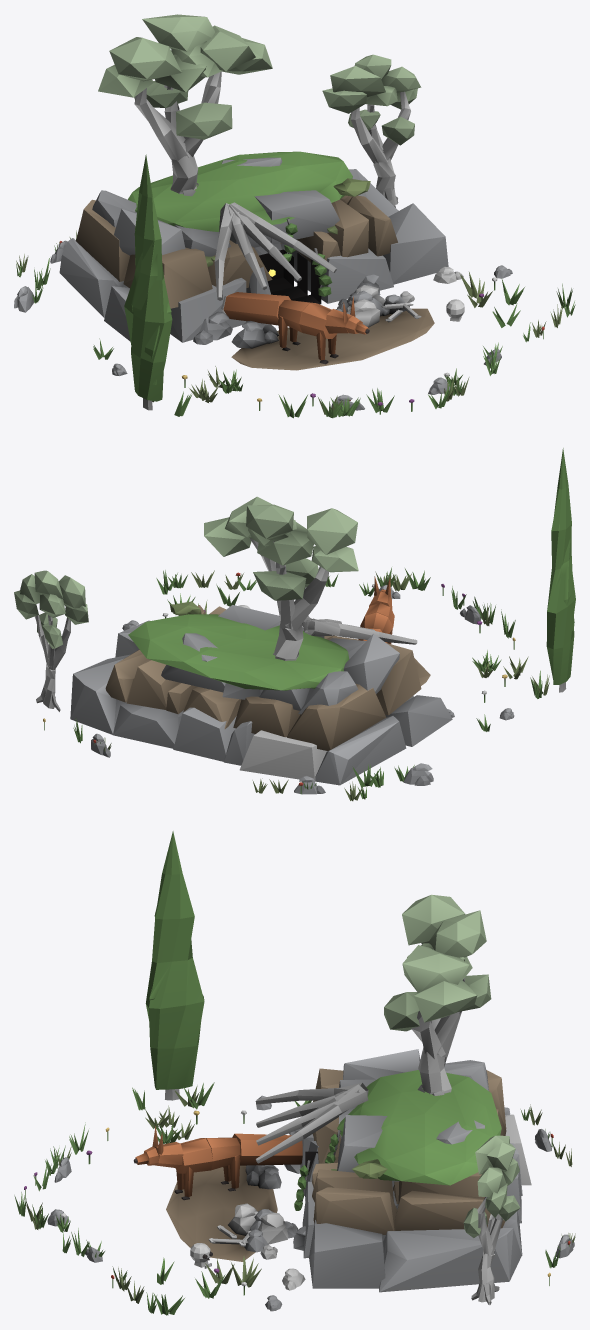
The model's file is fox-den-l1.glb.
3 renders of one model, top to bottom at view 1: azimuth 30°, elevation 25°; view 2: azimuth 150°, elevation 25°; view 3: azimuth 270°, elevation 25°, orthographic. The views are drawn at different scales.
Visible parts, largest first — view 1: fox-den-l1; view 2: fox-den-l1; view 3: fox-den-l1.
Boxes of the visible parts, x1,y1,x2,y2 form: fox-den-l1: (14,14,575,418); fox-den-l1: (14,448,575,801); fox-den-l1: (14,831,575,1315).
Size of the model in its own units: 1.49 by 0.8501 by 1.59.
